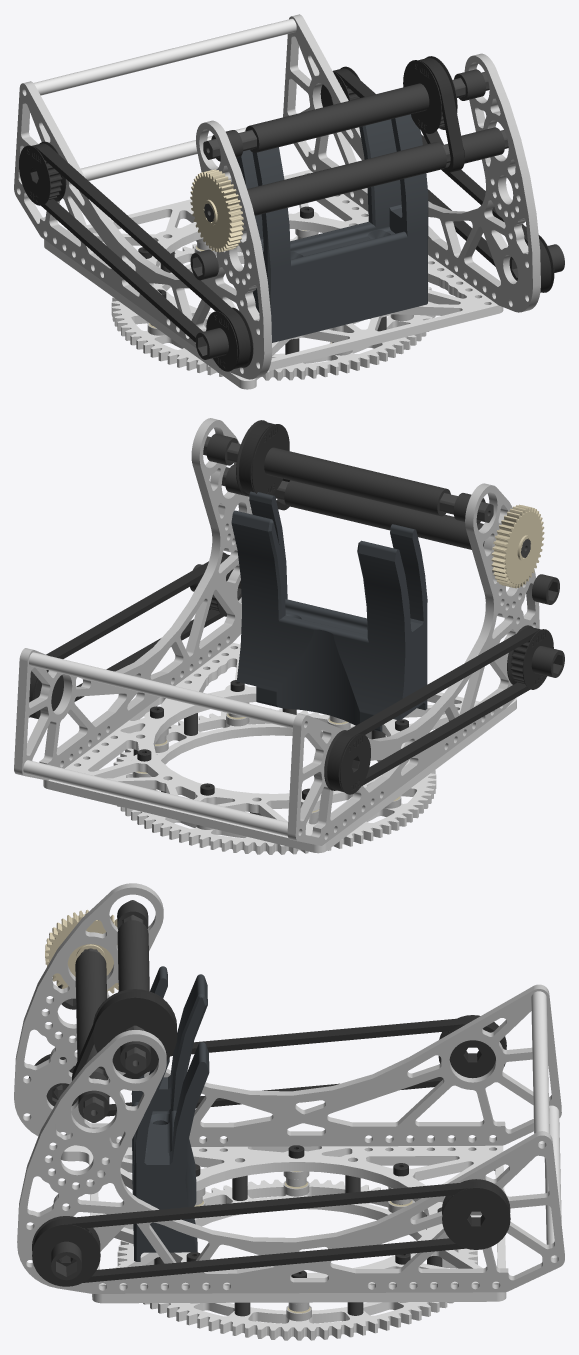
The picture shows the model from 3 angles, top to bottom: view 1: azimuth 30°, elevation 25°; view 2: azimuth 150°, elevation 25°; view 3: azimuth 270°, elevation 25°; orthographic projection. The views are drawn at different scales.
Parts seen in each view (by area): view 1: Part 78, Shooter Plate, Shooter Plate 2, Turret Pivioting Plate, 125T 5M 9mm Wide Belt (×2), Turret Gear, 1/2" Hex Bore Custom Spacer (0.75" OD,6.313" L), 8.125 in. Round Spacer (×2), 1/2" Hex Bore Custom Spacer (0.75" OD,5.302" L), 24t Custom HTD 5mm Pulley (0.375" Wide, *0.375" Hex Bore) (×3), 42t Aluminum Spur Gear (20 DP, 1/2" Hex Bore), 40T 5M 9mm Wide Belt (+6 smaller); view 2: Part 78, Shooter Plate, Shooter Plate 2, Turret Pivioting Plate, 125T 5M 9mm Wide Belt (×2), Turret Gear, 8.125 in. Round Spacer (×2), 1/2" Hex Bore Custom Spacer (0.75" OD,5.302" L), 1/2" Hex Bore Custom Spacer (0.75" OD,6.313" L), 42t Aluminum Spur Gear (20 DP, 1/2" Hex Bore), 24t Custom HTD 5mm Pulley (0.375" Wide, *0.375" Hex Bore) (×2), 30t Custom HTD 5mm Pulley (0.375" Wide, *0.375" Hex Bore) (+5 smaller); view 3: Shooter Plate, Shooter Plate 2, Turret Pivioting Plate, 125T 5M 9mm Wide Belt (×2), Part 78, Turret Gear, 24t Custom HTD 5mm Pulley (0.375" Wide, *0.375" Hex Bore) (×3), 30t Custom HTD 5mm Pulley (0.375" Wide, *0.375" Hex Bore), 8.125 in. Round Spacer (×2), 1/2" Hex Bore Custom Spacer (0.75" OD,6.313" L), 1/2" Hex Bore Custom Spacer (0.75" OD,5.302" L), 42t Aluminum Spur Gear (20 DP, 1/2" Hex Bore) (+4 smaller).
Part boxes in pixels (left/top/right/bottom): Part 78: left=236, top=114, right=428, bottom=342; Shooter Plate: left=283, top=14, right=540, bottom=312; Shooter Plate 2: left=14, top=81, right=272, bottom=379; Turret Pivioting Plate: left=44, top=169, right=503, bottom=389; 125T 5M 9mm Wide Belt (×2): left=32, top=68, right=551, bottom=369; Turret Gear: left=111, top=236, right=435, bottom=380; 1/2" Hex Bore Custom Spacer (0.75" OD,6.313" L): left=247, top=142, right=446, bottom=215; 8.125 in. Round Spacer (×2): left=34, top=18, right=296, bottom=180; 1/2" Hex Bore Custom Spacer (0.75" OD,5.302" L): left=245, top=83, right=429, bottom=152; 24t Custom HTD 5mm Pulley (0.375" Wide, *0.375" Hex Bore) (×3): left=19, top=66, right=359, bottom=371; 42t Aluminum Spur Gear (20 DP, 1/2" Hex Bore): left=190, top=169, right=243, bottom=252; 40T 5M 9mm Wide Belt: left=418, top=58, right=464, bottom=173; Part 78: left=231, top=491, right=427, bottom=731; Shooter Plate: left=14, top=418, right=252, bottom=780; Shooter Plate 2: left=287, top=483, right=539, bottom=845; Turret Pivioting Plate: left=43, top=643, right=516, bottom=853; 125T 5M 9mm Wide Belt (×2): left=29, top=554, right=540, bottom=792; Turret Gear: left=113, top=708, right=436, bottom=854; 8.125 in. Round Spacer (×2): left=23, top=652, right=296, bottom=836; 1/2" Hex Bore Custom Spacer (0.75" OD,5.302" L): left=264, top=447, right=450, bottom=516; 1/2" Hex Bore Custom Spacer (0.75" OD,6.313" L): left=284, top=480, right=484, bottom=549; 42t Aluminum Spur Gear (20 DP, 1/2" Hex Bore): left=491, top=504, right=544, bottom=588; 24t Custom HTD 5mm Pulley (0.375" Wide, *0.375" Hex Bore) (×2): left=324, top=625, right=553, bottom=794; 30t Custom HTD 5mm Pulley (0.375" Wide, *0.375" Hex Bore): left=236, top=420, right=289, bottom=494; Shooter Plate: left=17, top=1030, right=564, bottom=1293; Shooter Plate 2: left=14, top=883, right=561, bottom=1147; Turret Pivioting Plate: left=60, top=1145, right=506, bottom=1303; 125T 5M 9mm Wide Belt (×2): left=33, top=1017, right=508, bottom=1282; Part 78: left=131, top=966, right=209, bottom=1261; Turret Gear: left=117, top=1179, right=477, bottom=1340; 24t Custom HTD 5mm Pulley (0.375" Wide, *0.375" Hex Bore) (×3): left=32, top=1015, right=510, bottom=1286; 30t Custom HTD 5mm Pulley (0.375" Wide, *0.375" Hex Bore): left=93, top=989, right=177, bottom=1073; 8.125 in. Round Spacer (×2): left=531, top=991, right=561, bottom=1258; 1/2" Hex Bore Custom Spacer (0.75" OD,6.313" L): left=75, top=951, right=108, bottom=1079; 1/2" Hex Bore Custom Spacer (0.75" OD,5.302" L): left=117, top=920, right=149, bottom=991; 42t Aluminum Spur Gear (20 DP, 1/2" Hex Bore): left=45, top=909, right=118, bottom=993.
Bounding box in the file's own units: 0.2813 × 0.2141 × 0.3379.
